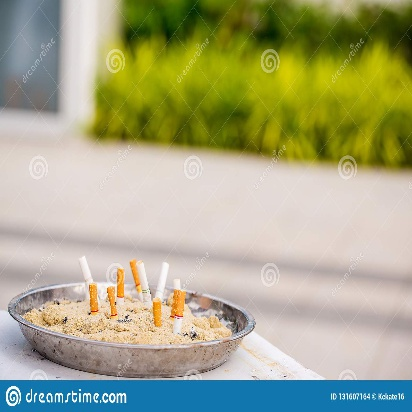cigarette: (76, 254, 103, 316), (166, 277, 189, 340), (105, 265, 127, 317), (152, 258, 167, 325), (131, 257, 151, 306)
